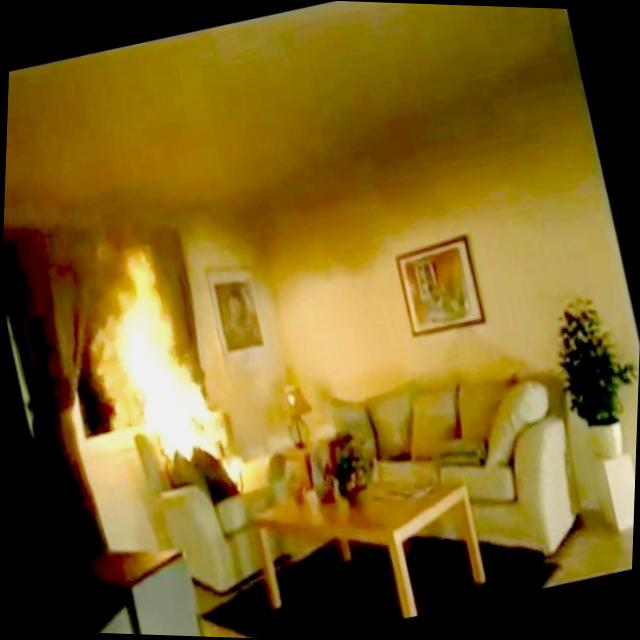fire: (66, 231, 252, 488)
